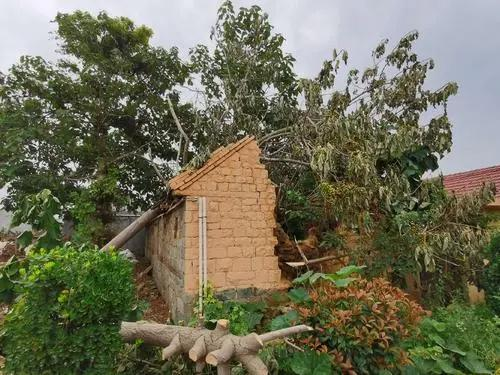Downstairs: (91, 28, 441, 262), (120, 321, 319, 375)
